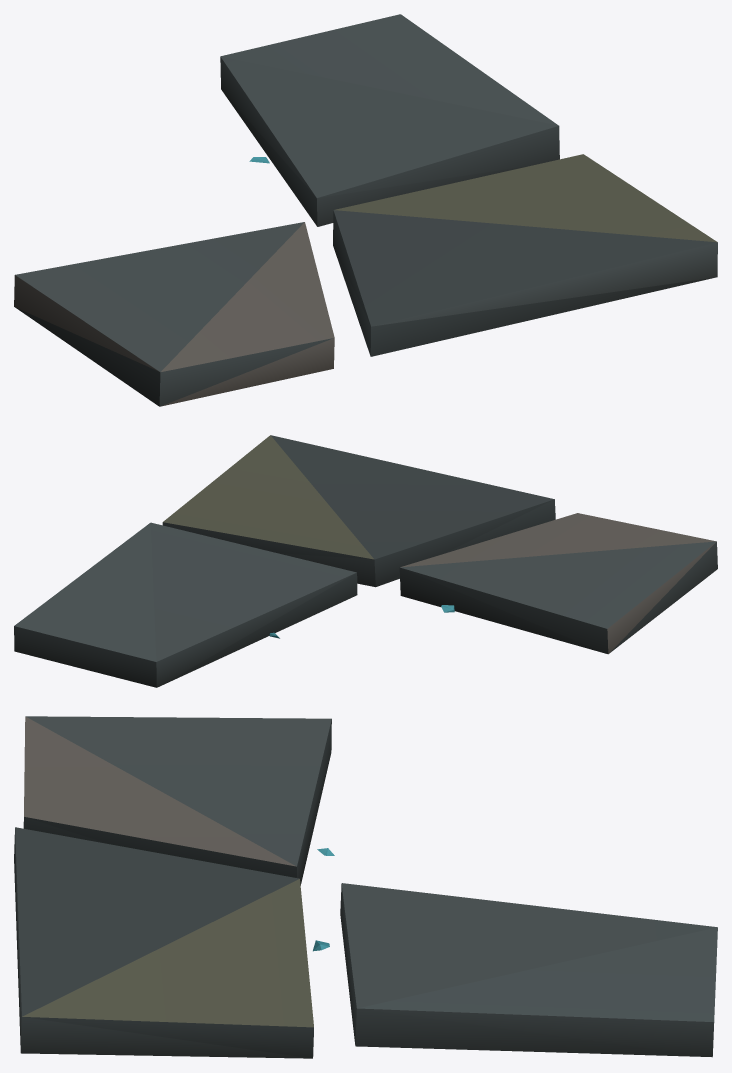
File: rift_slabs.glb
3 views of the same model, one above another, from view 1: azimuth 30°, elevation 25°; view 2: azimuth 150°, elevation 25°; view 3: azimuth 270°, elevation 25° (orthographic). The views are drawn at different scales.
Visible parts, largest first — view 1: ca_rift_slabs; view 2: ca_rift_slabs; view 3: ca_rift_slabs.
Boxes of the visible parts, x1,y1,x2,y2 form: ca_rift_slabs: (14,14,717,406); ca_rift_slabs: (14,435,717,687); ca_rift_slabs: (14,716,717,1058).
Size of the model in its own units: 2 by 0.15 by 1.99.
Materials: 1 (1 with a texture image).
